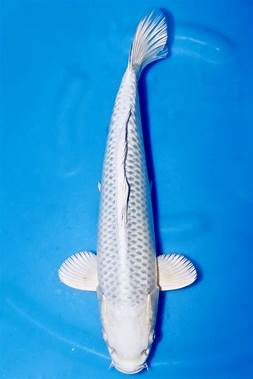white: (58, 8, 200, 375)
